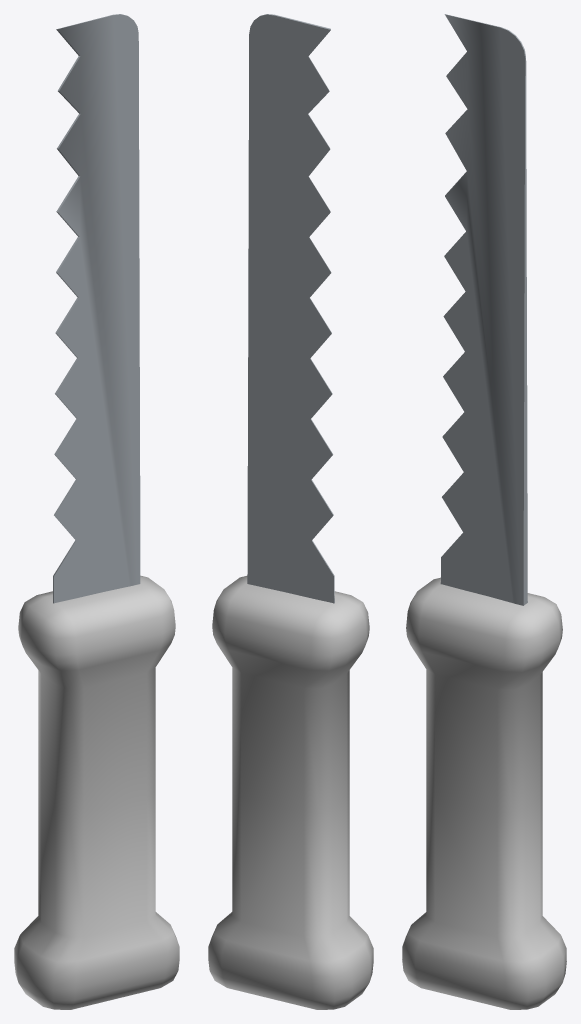
File: Knife-2.fbx
The picture shows the model from 3 angles, left to right: view 1: azimuth 30°, elevation 25°; view 2: azimuth 150°, elevation 25°; view 3: azimuth 330°, elevation 25°; orthographic projection.
Parts seen in each view (by area): view 1: Knife-2; view 2: Knife-2; view 3: Knife-2.
Boxes of the visible parts, x1,y1,x2,y2 form: Knife-2: [14, 14, 179, 1009]; Knife-2: [208, 14, 373, 1009]; Knife-2: [402, 14, 566, 1009].
Bounding box in the file's own units: 0.0478 × 0.3147 × 0.0285.
